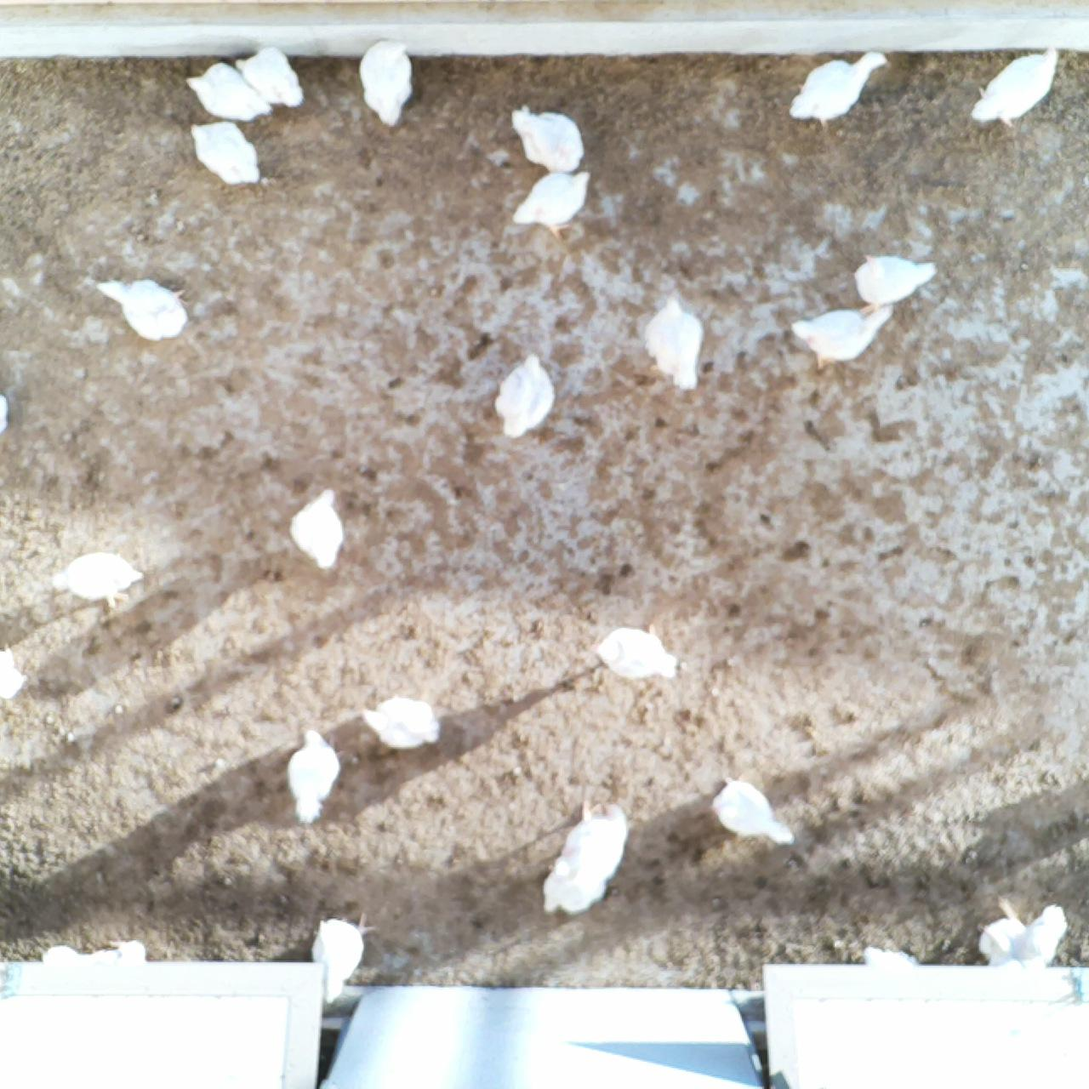chicken: (540, 781, 633, 916), (967, 888, 1071, 972), (787, 48, 891, 131), (968, 45, 1062, 130), (788, 301, 896, 372), (640, 290, 707, 395), (708, 774, 799, 850), (488, 348, 559, 444), (509, 166, 593, 246), (94, 277, 194, 343), (312, 911, 382, 1005), (506, 99, 589, 178), (49, 550, 145, 615), (850, 244, 941, 311), (590, 618, 682, 684), (282, 727, 344, 824), (357, 36, 420, 128), (287, 484, 350, 574), (184, 59, 273, 122), (188, 118, 262, 187), (234, 44, 310, 110), (360, 693, 442, 752), (0, 643, 28, 704), (100, 934, 149, 965)
